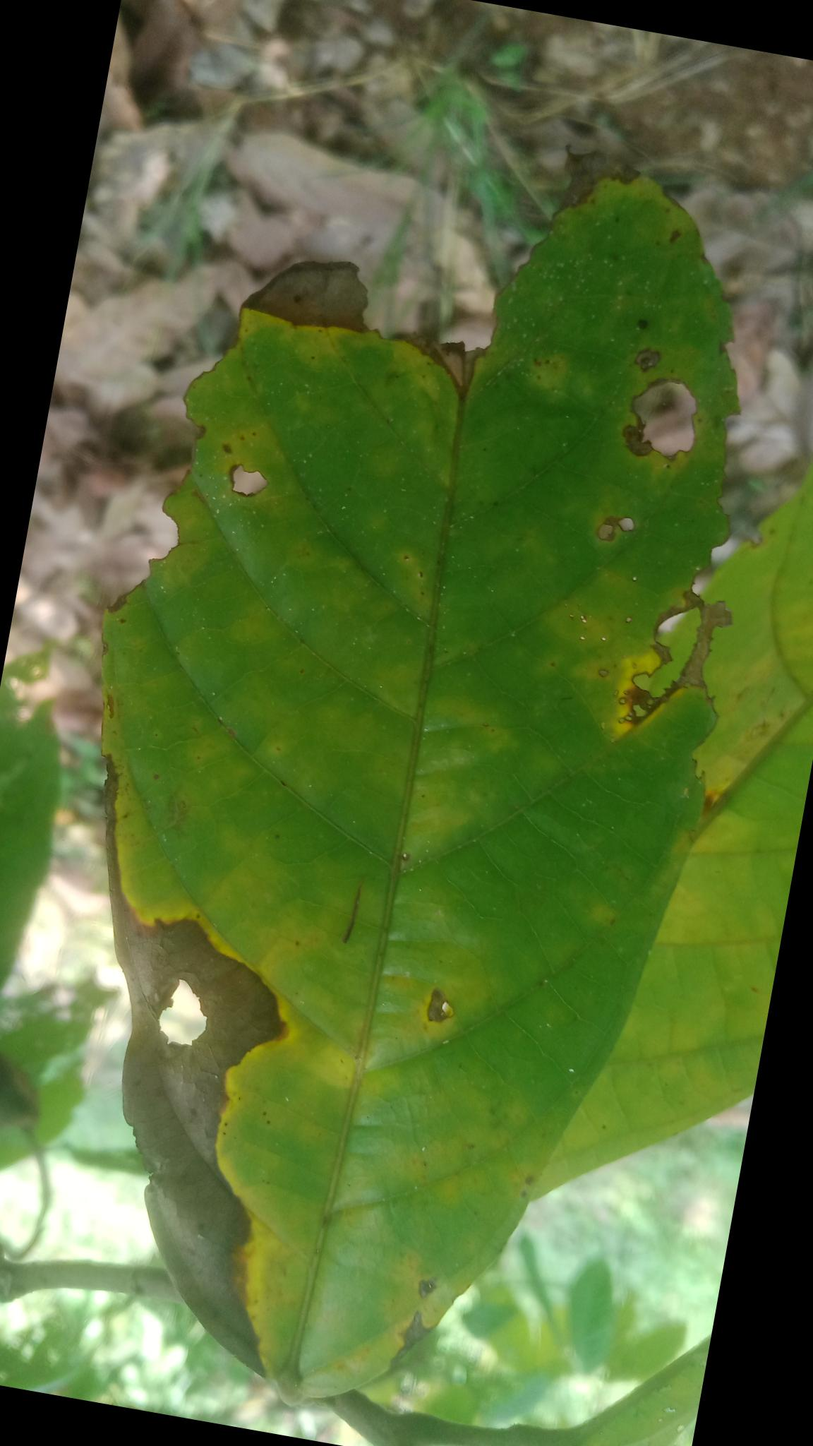Potasio: (107, 141, 741, 1403)
